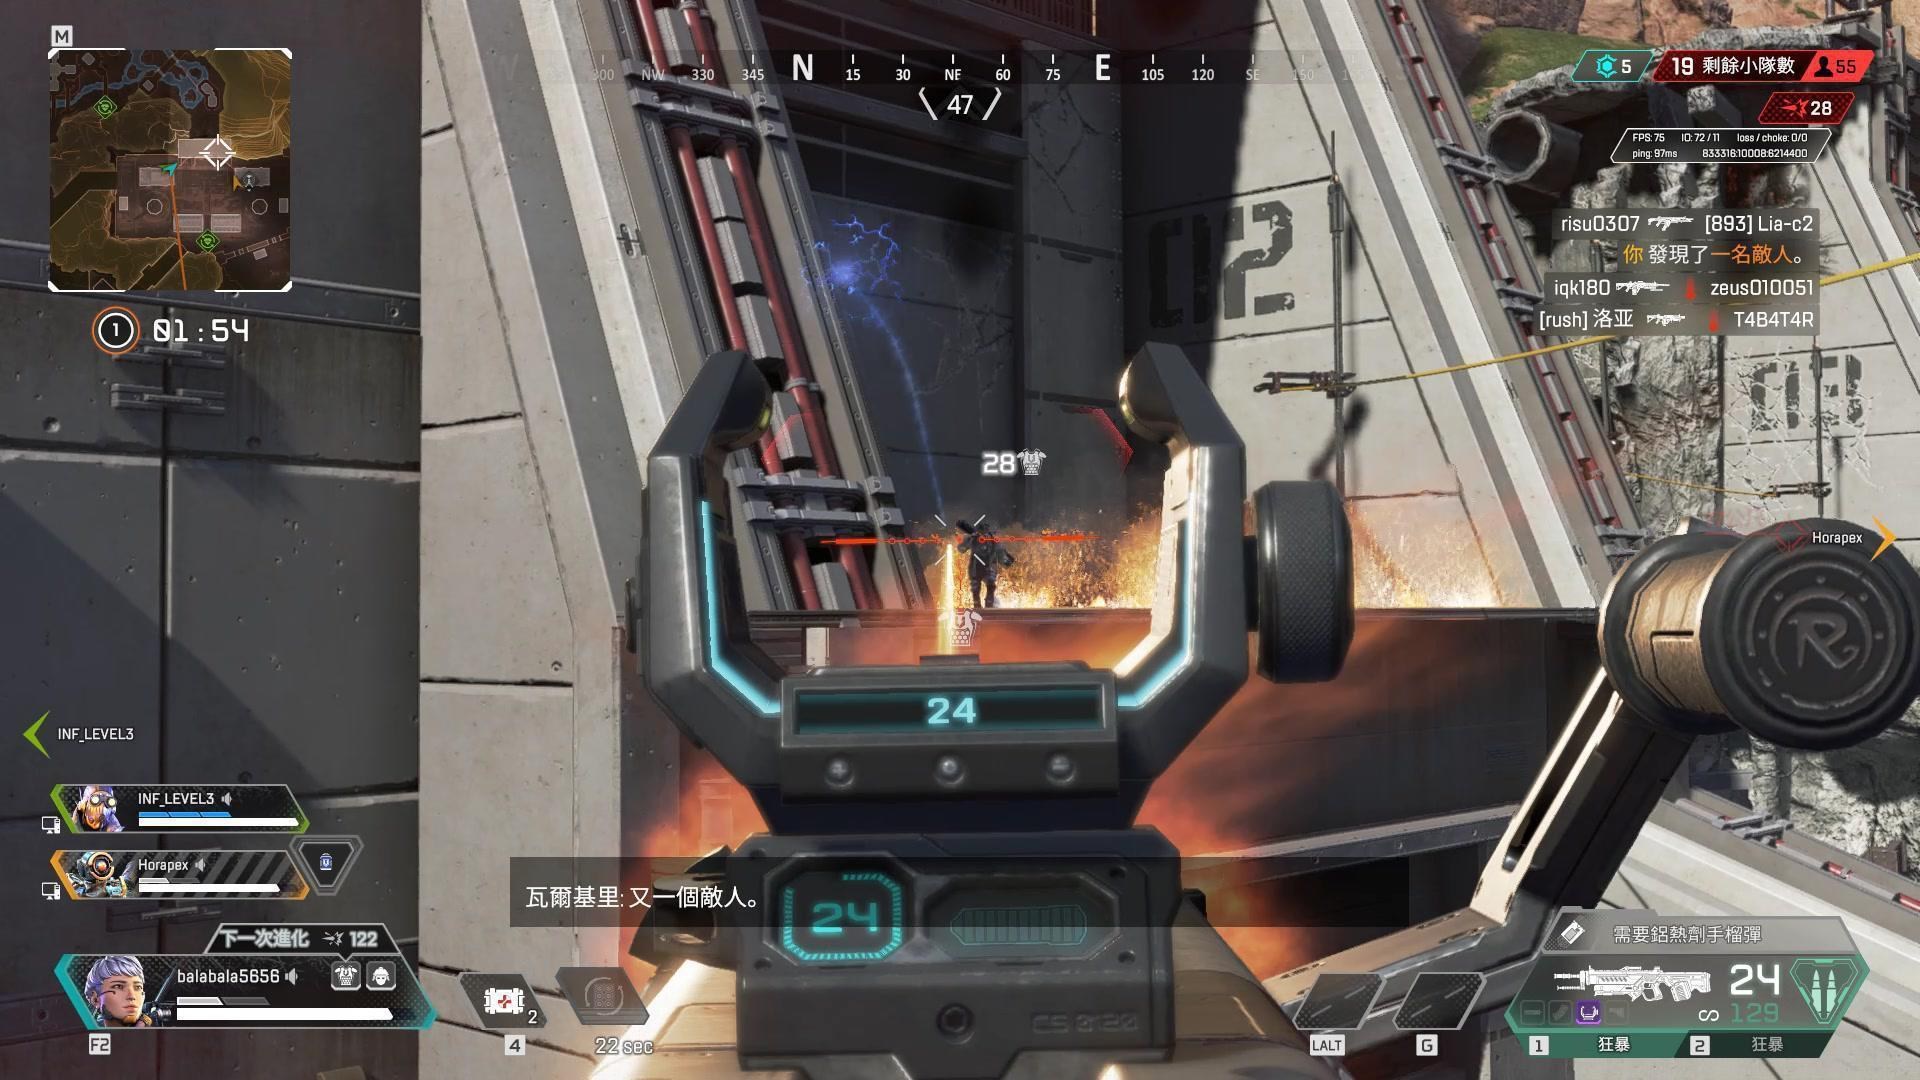avatar: (952, 515, 1016, 611)
